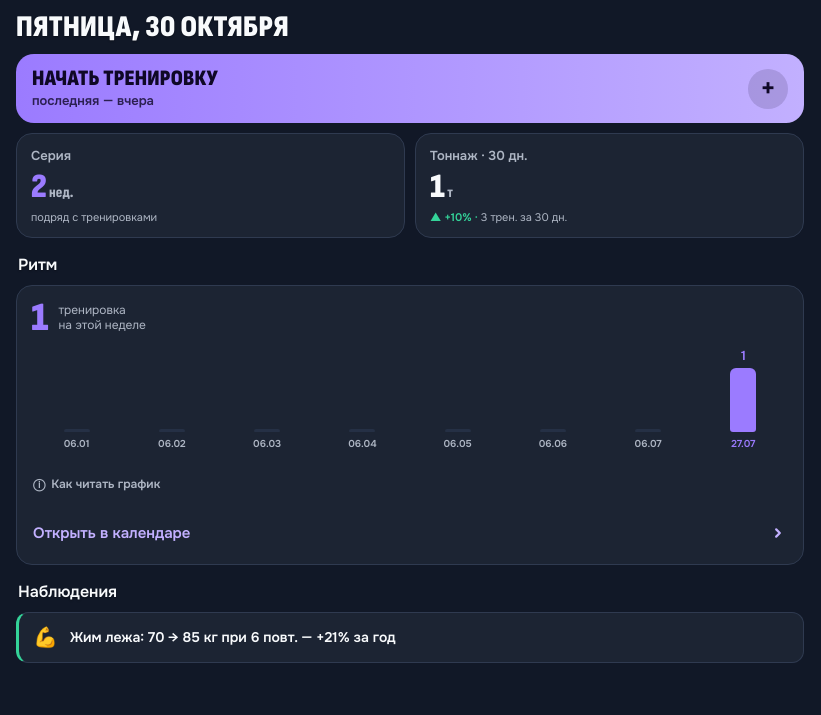
Test: HomeScreen › v6.5.1: тренировки в плитке — за 30 дней; пояснение Ритма по кнопке «Как читать график»
The image size is (821, 715).
Expected: the text "▲ +10% · 3 трен. за 30 дн." is shown, [430, 210, 567, 224]
Expected: the text "Один столбик — одна неделя" is not shown
Click the button "ⓘ Как читать график" at {"x": 97, "y": 484}, box [31, 462, 162, 506]
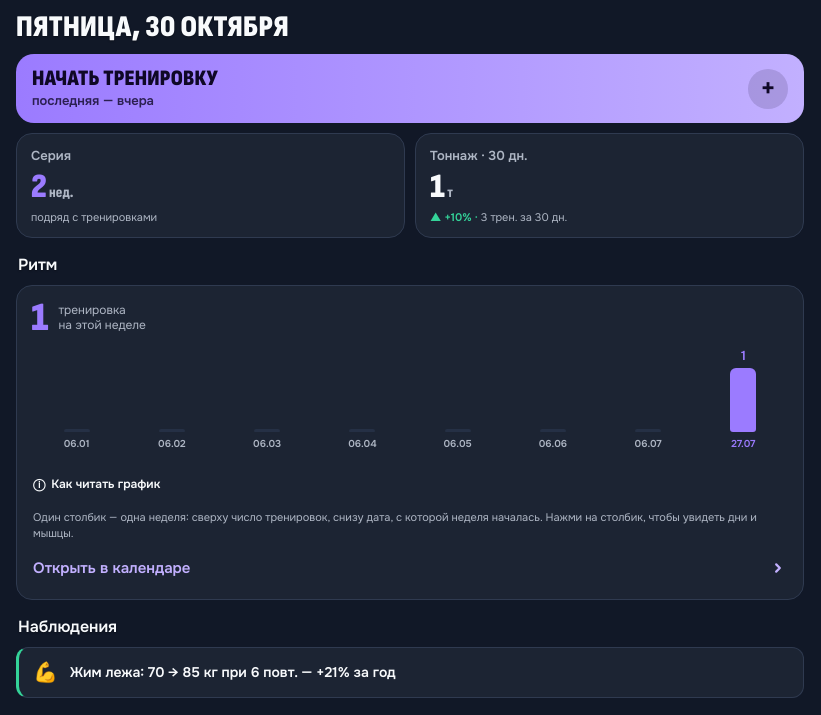
Result: the text "Один столбик — одна неделя" is shown at [33, 510, 542, 524]
